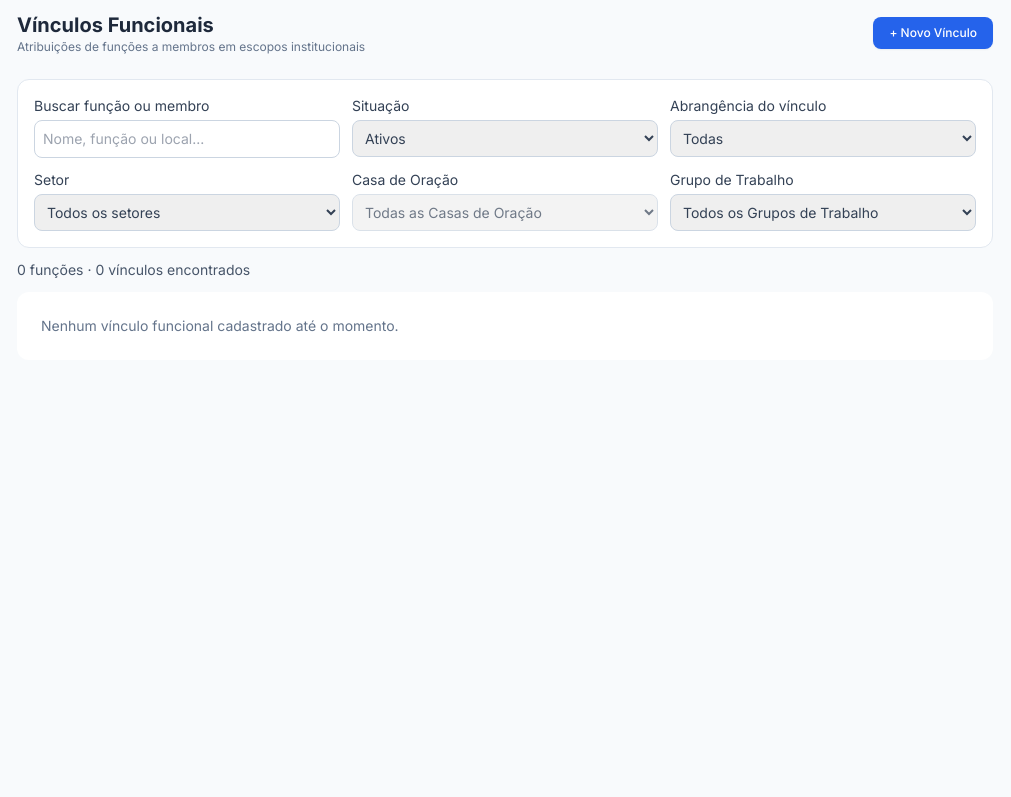
Test: S02-B2 — VinculosFuncionaisView (Frontend) › 2. Criar com exatamente um escopo e limpar estado incompatível ao trocar
Expected: the text "Nenhum vínculo funcional cadastrado até o momento." is shown, [17, 292, 993, 360]
Click the button "+ Novo Vínculo". click: [933, 33]
box: [873, 17, 993, 49]
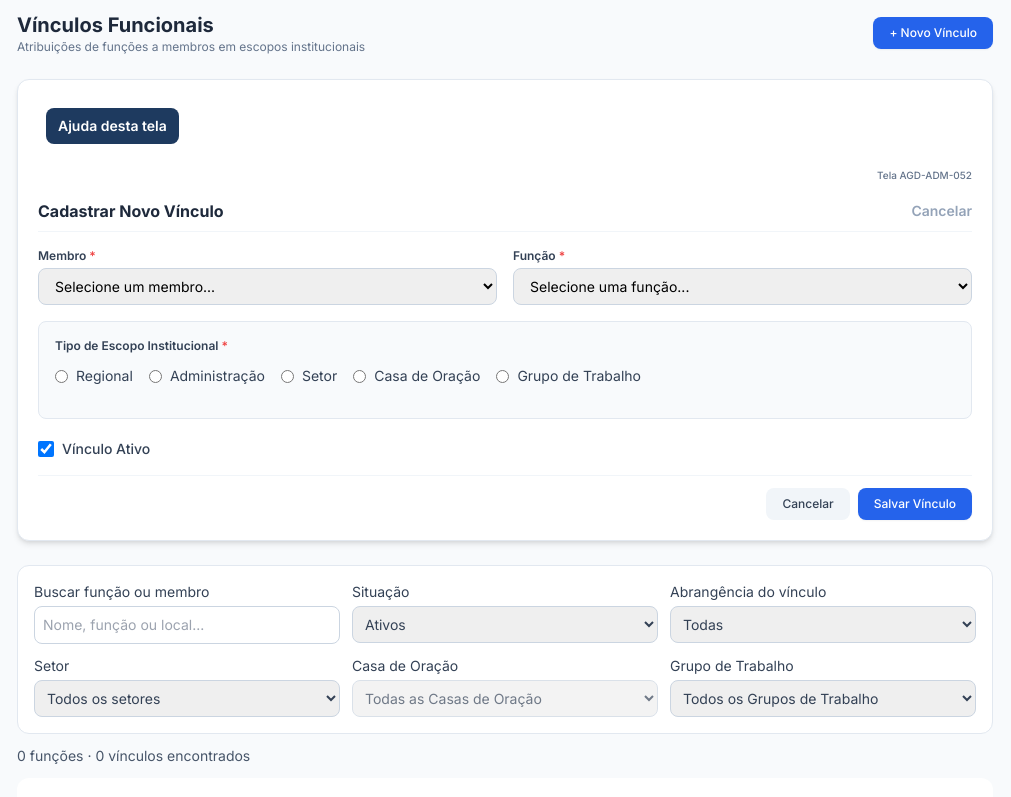
Now the heading "Cadastrar Novo Vínculo" is shown, box [38, 199, 224, 223]
Note: Selecionar membro e função
Select "João da Silva" in the dropdown labelled "Membro *". click: [268, 286]
box: [38, 268, 497, 305]
Select "Ancião" in the dropdown labelled "Função *". click: [742, 286]
box: [513, 268, 972, 305]
Note: Escolher Regional
Click the radio button labelled "Regional". click: [62, 376]
box: [55, 370, 68, 382]
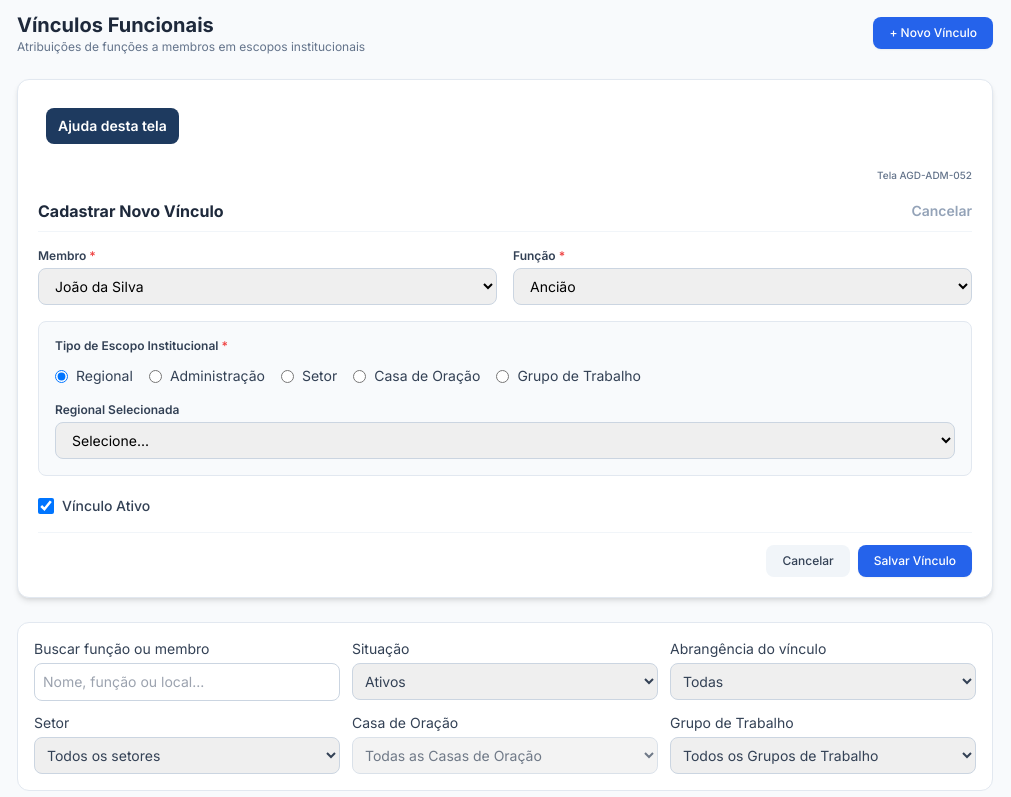
Note: O select de regional deve aparecer
Select "Regional Leste" in the dropdown labelled "Regional Selecionada". click: [505, 440]
box: [55, 422, 955, 459]
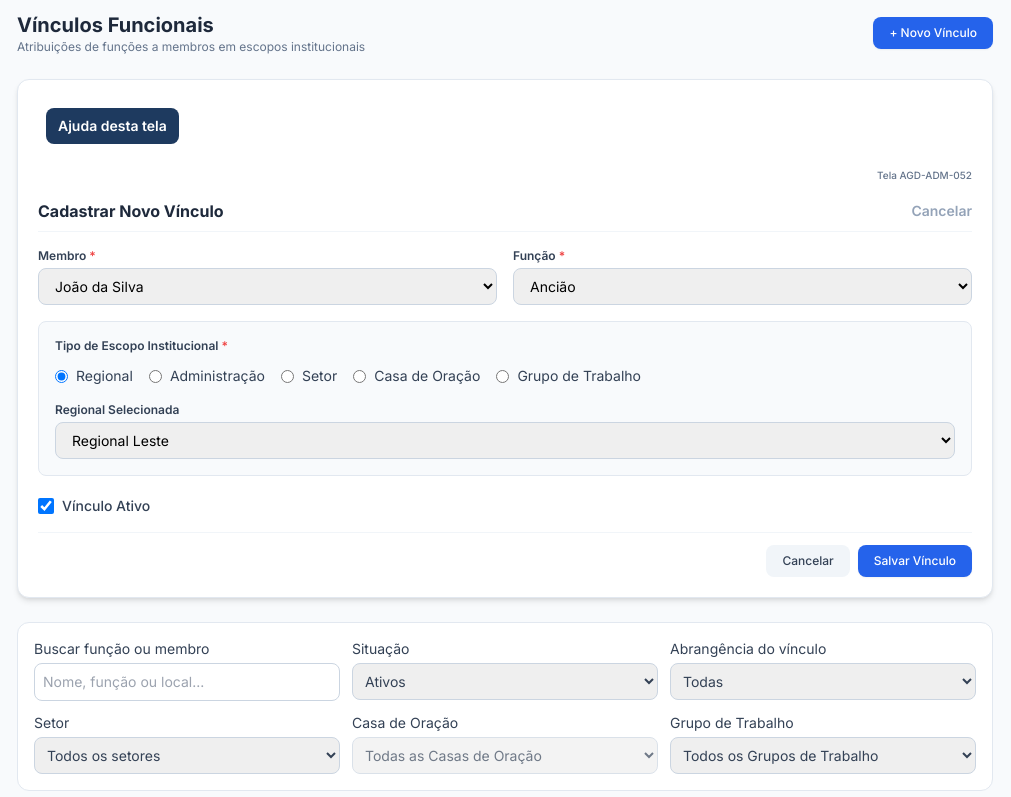
Note: Trocar para Setor (deve limpar o escopoId e ocultar o select da Regional)
Click the radio button labelled "Setor". click: [287, 376]
box: [281, 370, 294, 382]
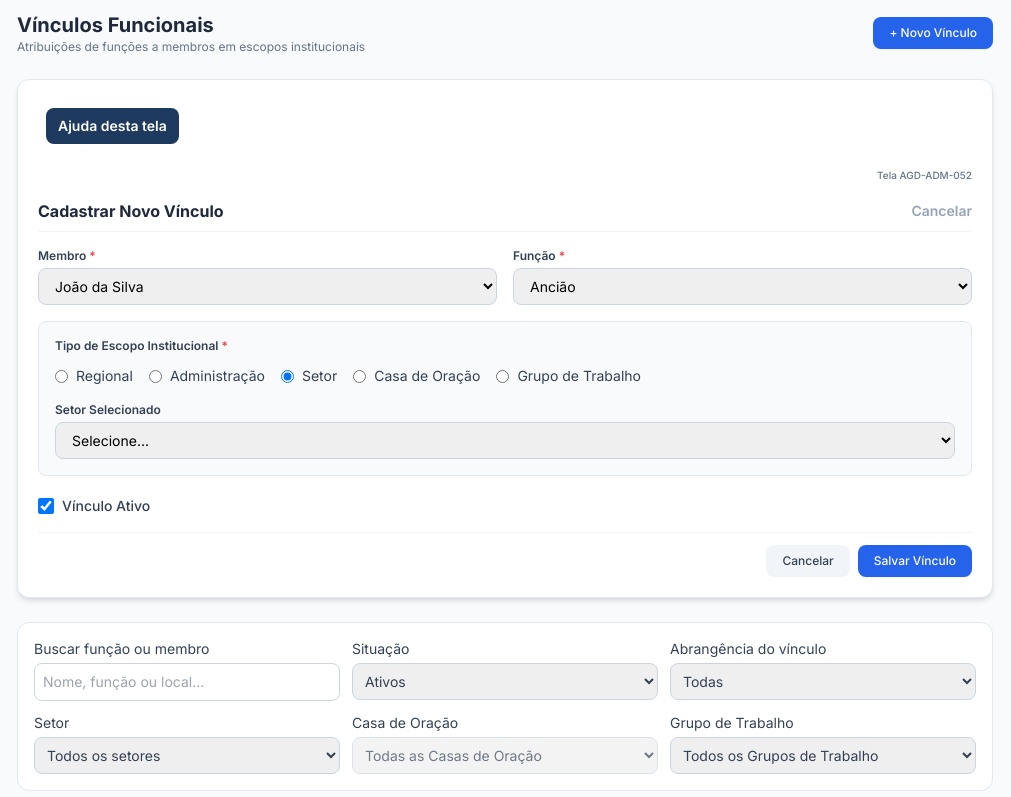
Note: Agora selecionamos o setor
Select "Setor 1" in the dropdown labelled "Setor Selecionado". click: [505, 440]
box: [55, 422, 955, 459]
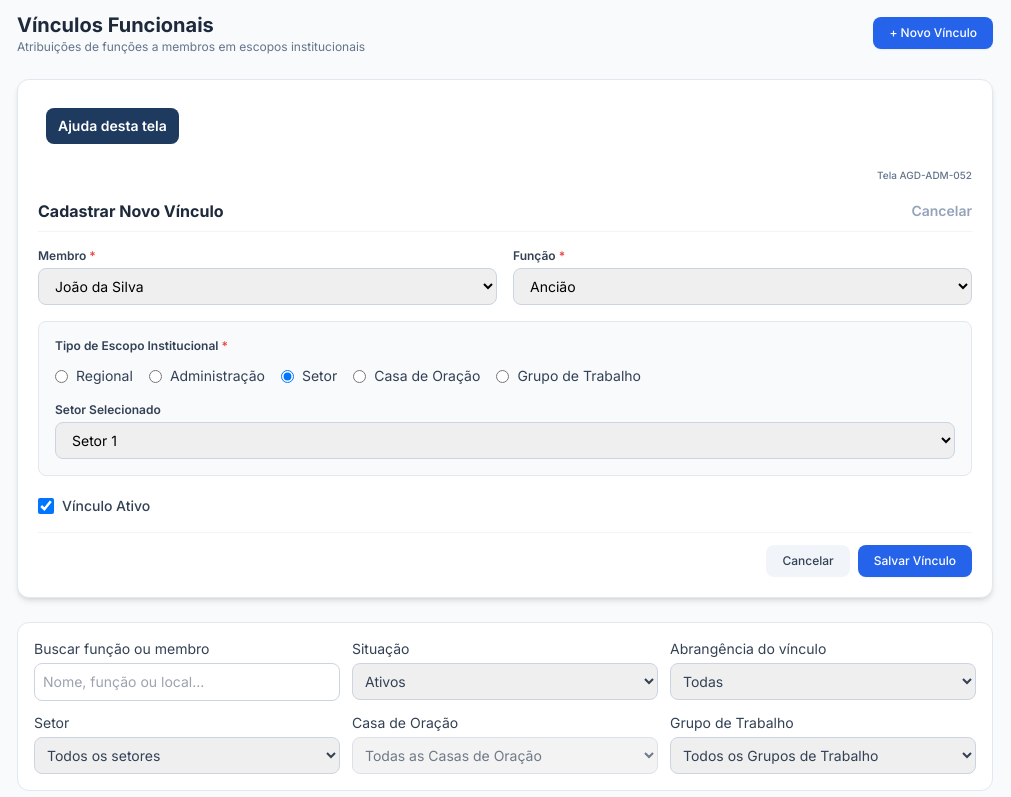
Click the button "Salvar Vínculo". click: [915, 561]
box: [858, 545, 972, 577]
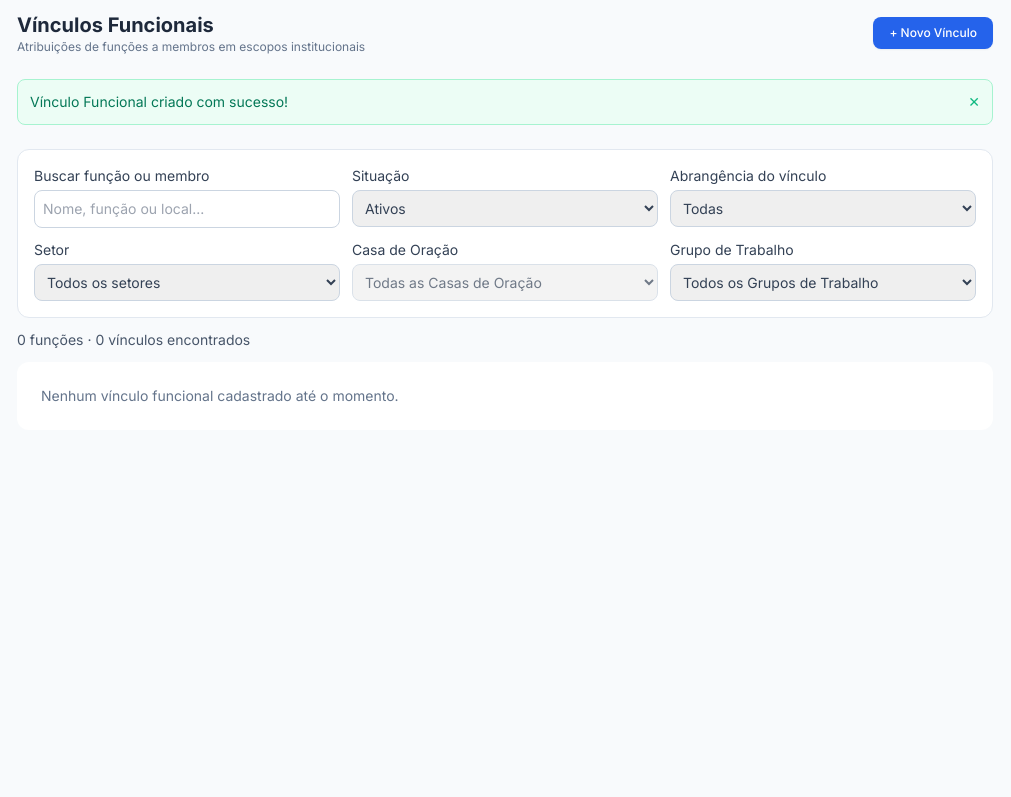
Now the text "Vínculo Funcional criado com sucesso!" is shown, box [30, 92, 288, 112]
